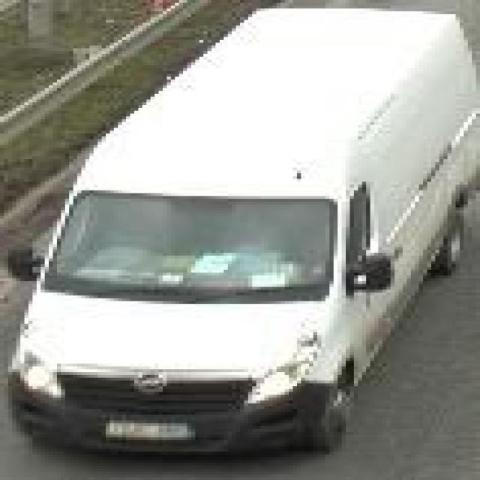van: (12, 8, 480, 458)
